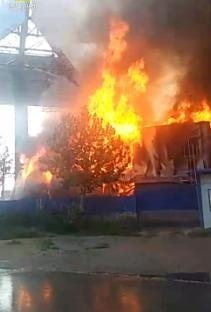fire: (29, 15, 205, 190)
